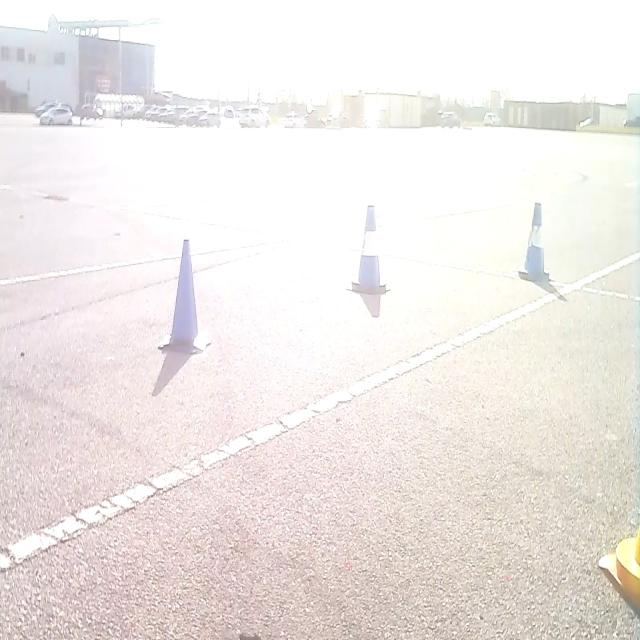blue_cone: (158, 239, 210, 354), (350, 207, 387, 318), (518, 203, 548, 281)
yellow_cone: (599, 528, 640, 617)
